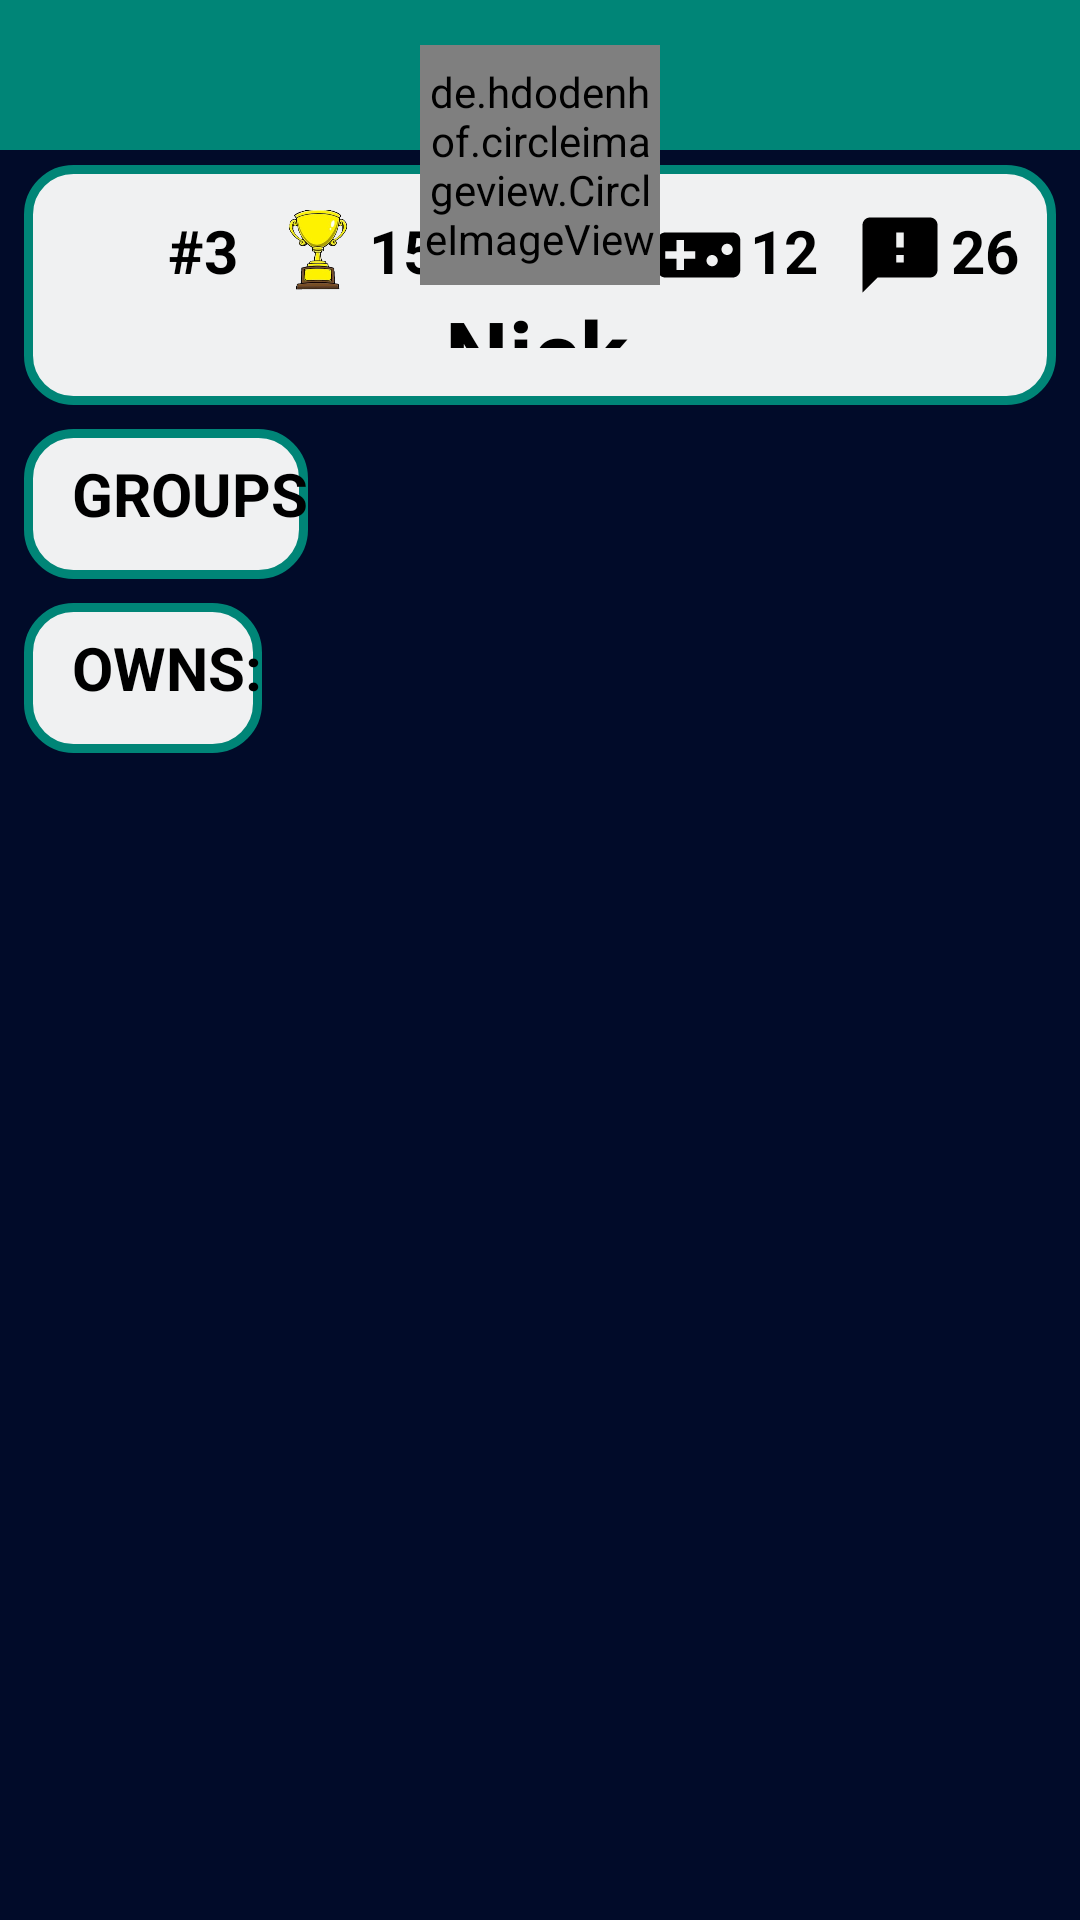

Icon click points for this 1080px x 1920px phone screenshot, format [x,y]:
fails: [900,255]
games played: [697,247]
